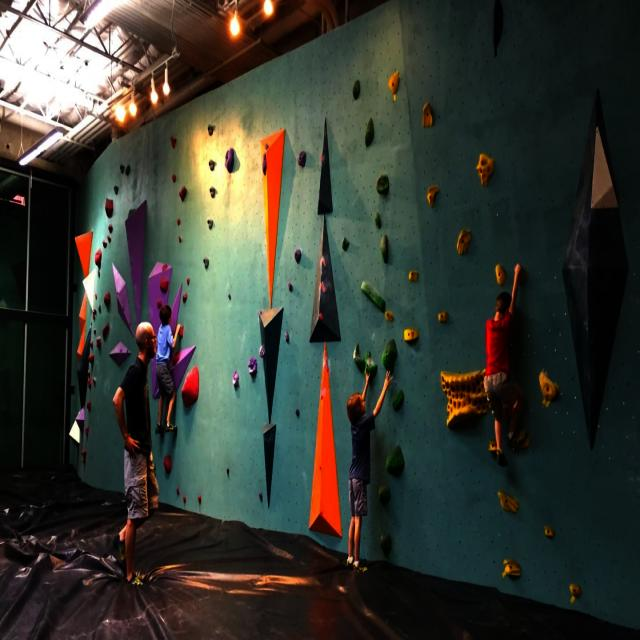green: (355, 261, 391, 325), (376, 433, 414, 487), (381, 331, 402, 379), (374, 526, 398, 564), (373, 479, 396, 516), (360, 113, 383, 149), (389, 384, 413, 416), (374, 230, 396, 264), (360, 351, 379, 386), (349, 338, 366, 377), (350, 70, 366, 110), (334, 231, 357, 257), (369, 176, 397, 197), (372, 214, 386, 230)
purple: (243, 352, 260, 391), (295, 141, 315, 174), (291, 244, 308, 272), (223, 146, 238, 177), (258, 147, 272, 179), (230, 364, 243, 396), (293, 400, 305, 430), (251, 484, 267, 506), (282, 275, 298, 296), (284, 322, 294, 354), (259, 339, 270, 364)
yellow: (430, 358, 493, 429), (470, 144, 499, 198), (531, 365, 560, 414), (412, 95, 442, 134), (497, 551, 527, 587), (491, 485, 522, 517), (454, 220, 474, 268), (423, 178, 441, 217), (386, 66, 405, 102), (401, 323, 423, 354), (434, 300, 452, 332), (568, 574, 583, 610), (493, 257, 508, 291), (407, 262, 422, 293), (382, 305, 399, 330), (540, 518, 556, 542)
